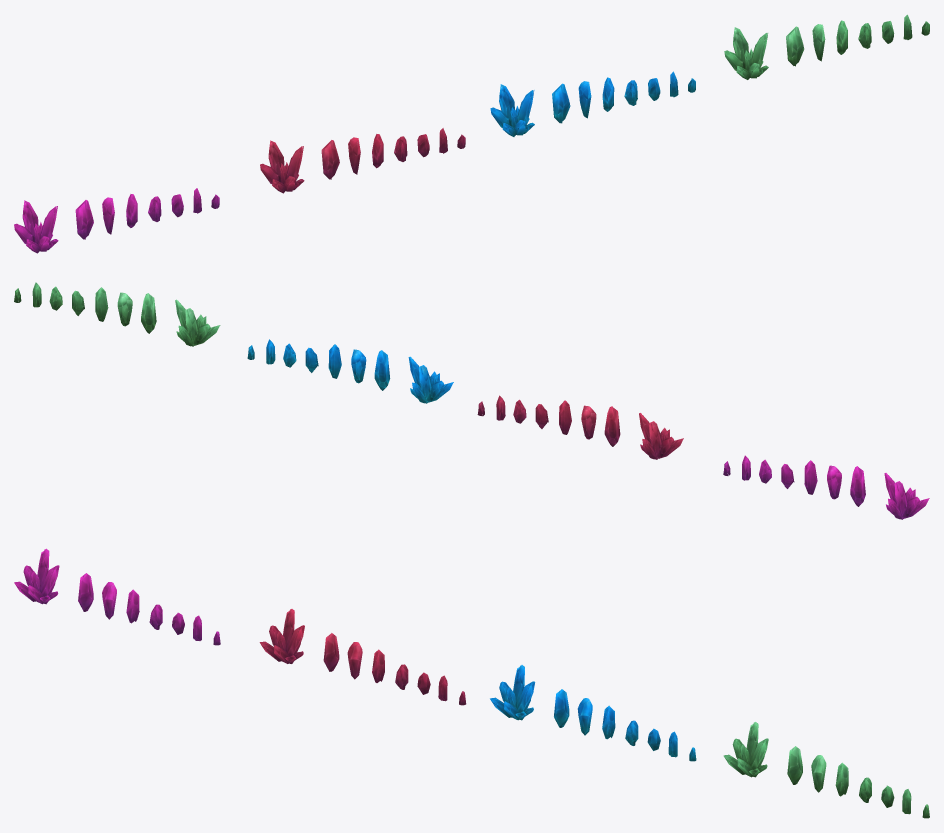
File: crystal_shards.glb
3 views of the same model, one above another, from view 1: azimuth 30°, elevation 25°; view 2: azimuth 150°, elevation 25°; view 3: azimuth 330°, elevation 25° (orthographic).
Visible parts, largest first — view 1: gem_Material #3_0, gem006_Material #2_0, gem005_Material #4_0, gem004_Material #1_0; view 2: gem_Material #3_0, gem004_Material #1_0, gem006_Material #2_0, gem005_Material #4_0; view 3: gem006_Material #2_0, gem_Material #3_0, gem004_Material #1_0, gem005_Material #4_0.
Boxes of the visible parts, <box> form: gem_Material #3_0: <box>260,128,465,193</box>; gem006_Material #2_0: <box>14,188,219,253</box>; gem005_Material #4_0: <box>724,14,929,79</box>; gem004_Material #1_0: <box>490,71,695,136</box>; gem_Material #3_0: <box>477,395,683,459</box>; gem004_Material #1_0: <box>247,339,453,403</box>; gem006_Material #2_0: <box>723,455,929,519</box>; gem005_Material #4_0: <box>14,282,220,346</box>; gem006_Material #2_0: <box>14,548,220,645</box>; gem_Material #3_0: <box>259,609,466,705</box>; gem004_Material #1_0: <box>490,665,696,761</box>; gem005_Material #4_0: <box>723,722,929,818</box>.
Size of the model in its own units: 25.81 by 1.21 by 1.05.
Materials: 4 (4 with a texture image).
